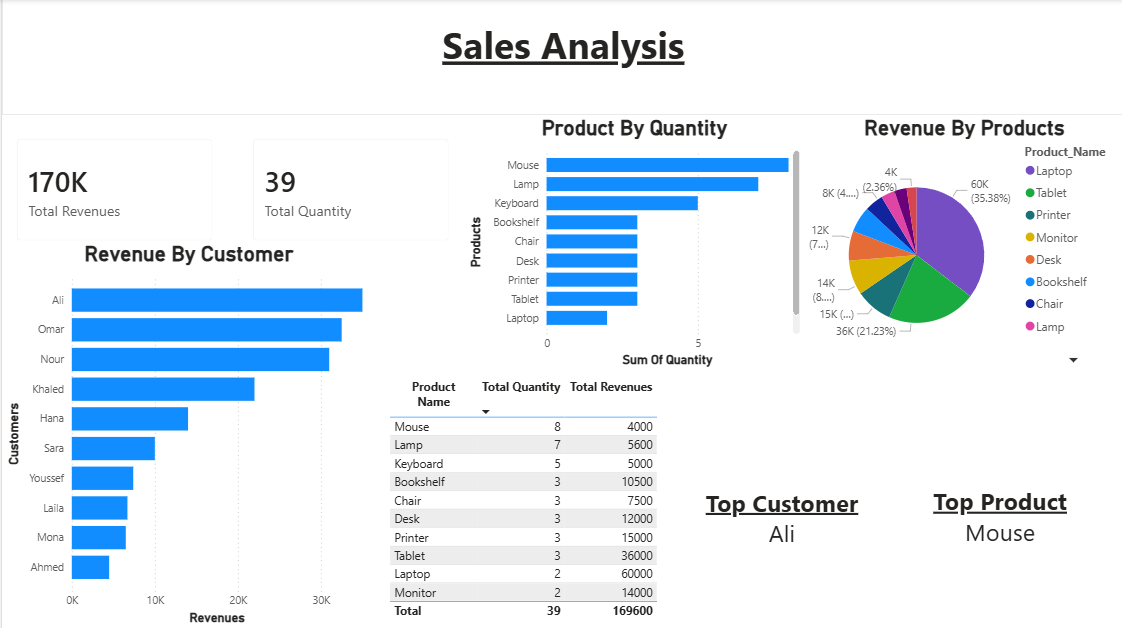

What the dashboard file says about the page in this screenshot:
{"tool":"powerbi","page":{"name":"Page 1","canvas":[1280,720],"ordinal":0},"visuals":[{"type":"textbox","box":[0,0,1280.3,133.1],"z":0},{"type":"cardVisual","fields":{"Data":["Sum(Sheet1.revenue)"]},"box":[0,142.7,258,150.9],"z":1000},{"type":"cardVisual","fields":{"Data":["Sum(Sheet1.quantity)"]},"box":[269,142.7,258,150.9],"z":2000},{"type":"clusteredBarChart","title":"Product By Quantity","fields":{"Y":["Sum(Sheet1.quantity)"],"Category":["Sheet1.product_name"]},"box":[527.4,132.6,387.7,292.2],"z":2001},{"type":"clusteredBarChart","title":"Revenue By Customer","fields":{"Category":["Sheet1.customer_name"],"Y":["Sum(Sheet1.revenue)"]},"box":[0,276.5,426.2,441.9],"z":2002},{"type":"tableEx","fields":{"Values":["Sheet1.product_name","Sum(Sheet1.quantity)","Sum(Sheet1.revenue)"]},"box":[436.6,425.5,331.4,292.3],"z":2003},{"type":"pieChart","title":"Revenue By Products","fields":{"Category":["Sheet1.product_name"],"Y":["Sum(Sheet1.revenue)"]},"box":[915.1,132.6,364.9,292.2],"z":2004},{"type":"textbox","box":[782.5,427.6,213.8,290.8],"z":2005},{"type":"textbox","box":[1019.2,426.2,238,292.2],"z":2006}]}

Visuals, with their boxes in screenshot pixels (x1, y1, x2, y2), scaled from the page's 1280x720 canvas onto the 1122x628 screenshot:
textbox: 0/0/1121/116
cardVisual - Sum(Sheet1.revenue): 0/124/226/256
cardVisual - Sum(Sheet1.quantity): 236/124/462/256
"Product By Quantity" clusteredBarChart: 462/116/802/371
"Revenue By Customer" clusteredBarChart: 0/241/374/627
tableEx - Sheet1.product_name x Sum(Sheet1.quantity): 383/371/673/626
"Revenue By Products" pieChart: 802/116/1121/371
textbox: 686/373/873/627
textbox: 893/372/1102/627
